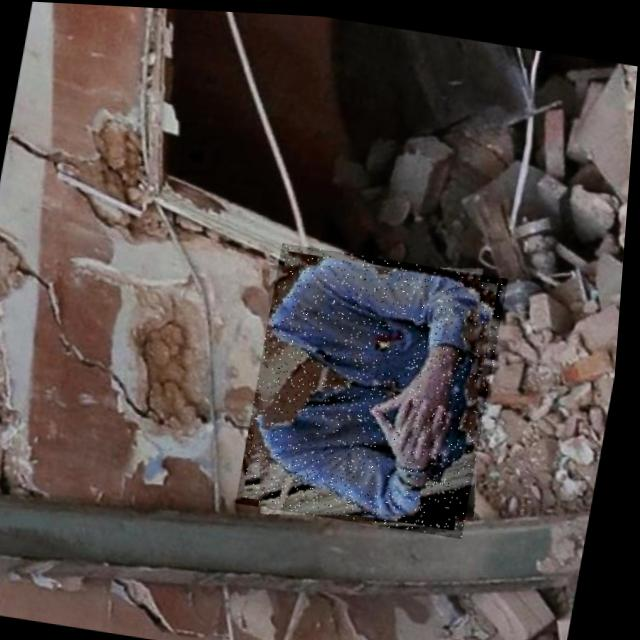Person in Rubble: (242, 237, 515, 534)
